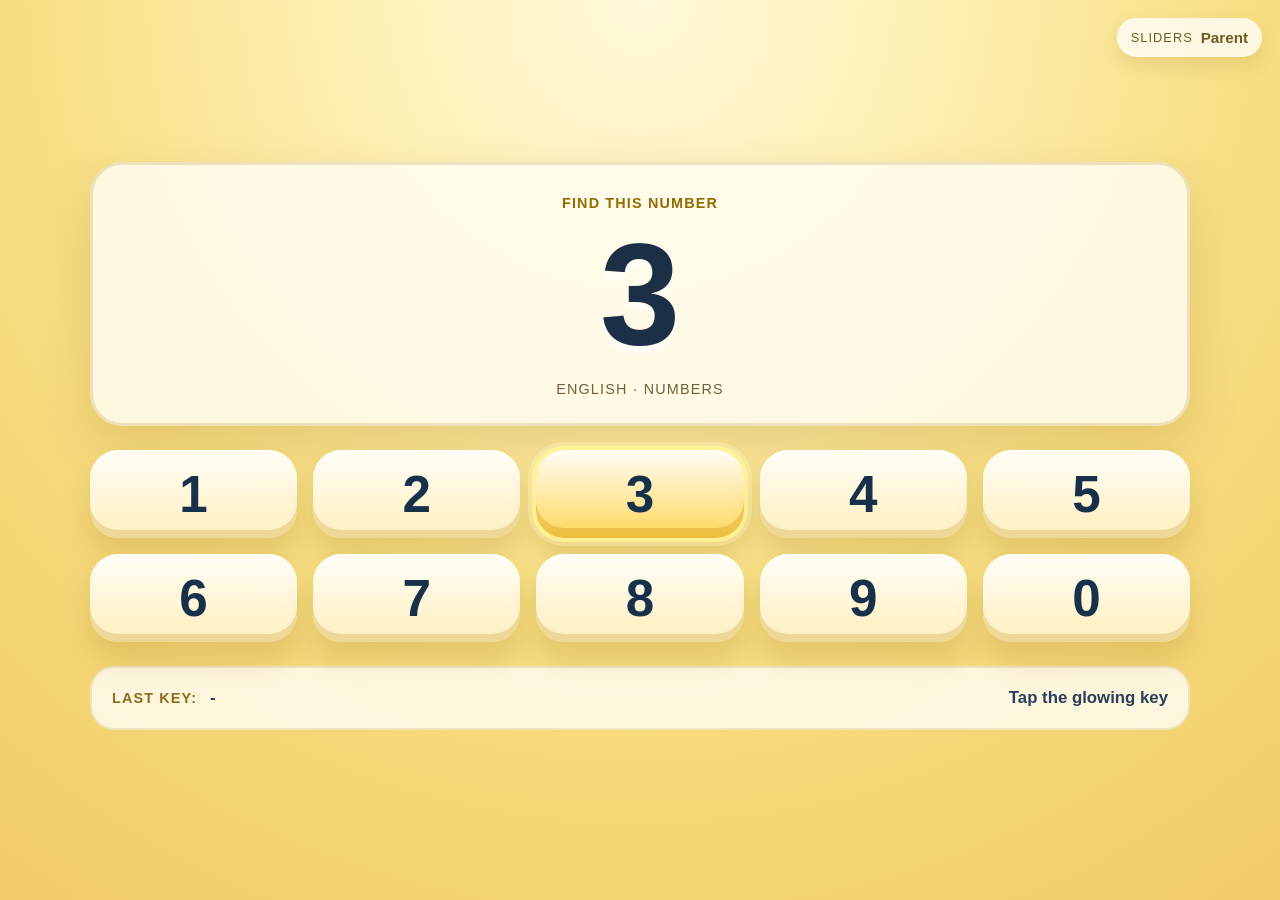
Test: App › keeps the current lesson state when the parent drawer opens and closes
The width and height of the screenshot is (1280, 900).
What coordinates should you click on to do the following:
click the button "1"
I would click on:
 (194, 494)
Its box is [90, 450, 297, 538].
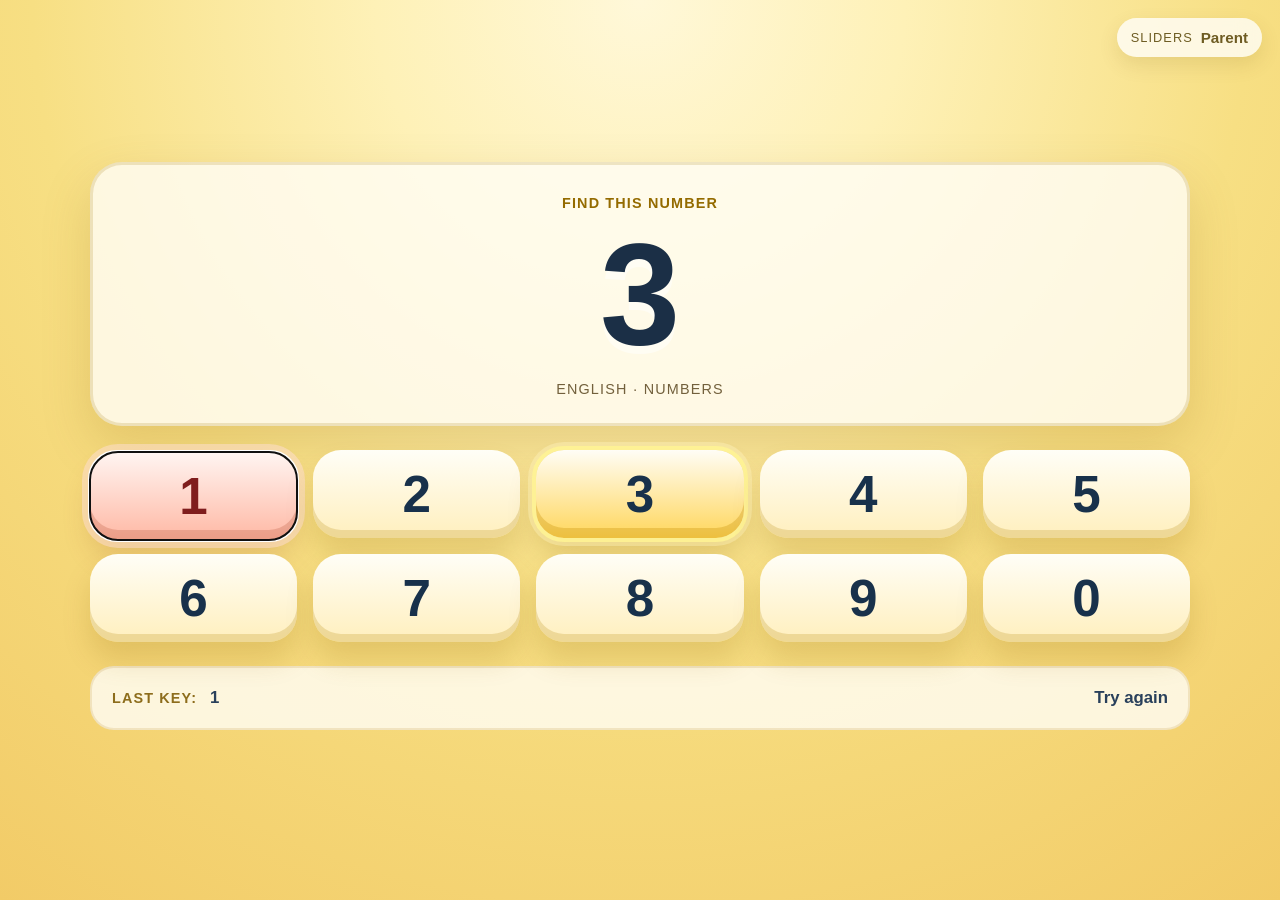
What coordinates should you click on to do the following:
click the button with aria-label "open parent settings"
I would click on:
 (1189, 38)
Its box is [1117, 18, 1262, 57].
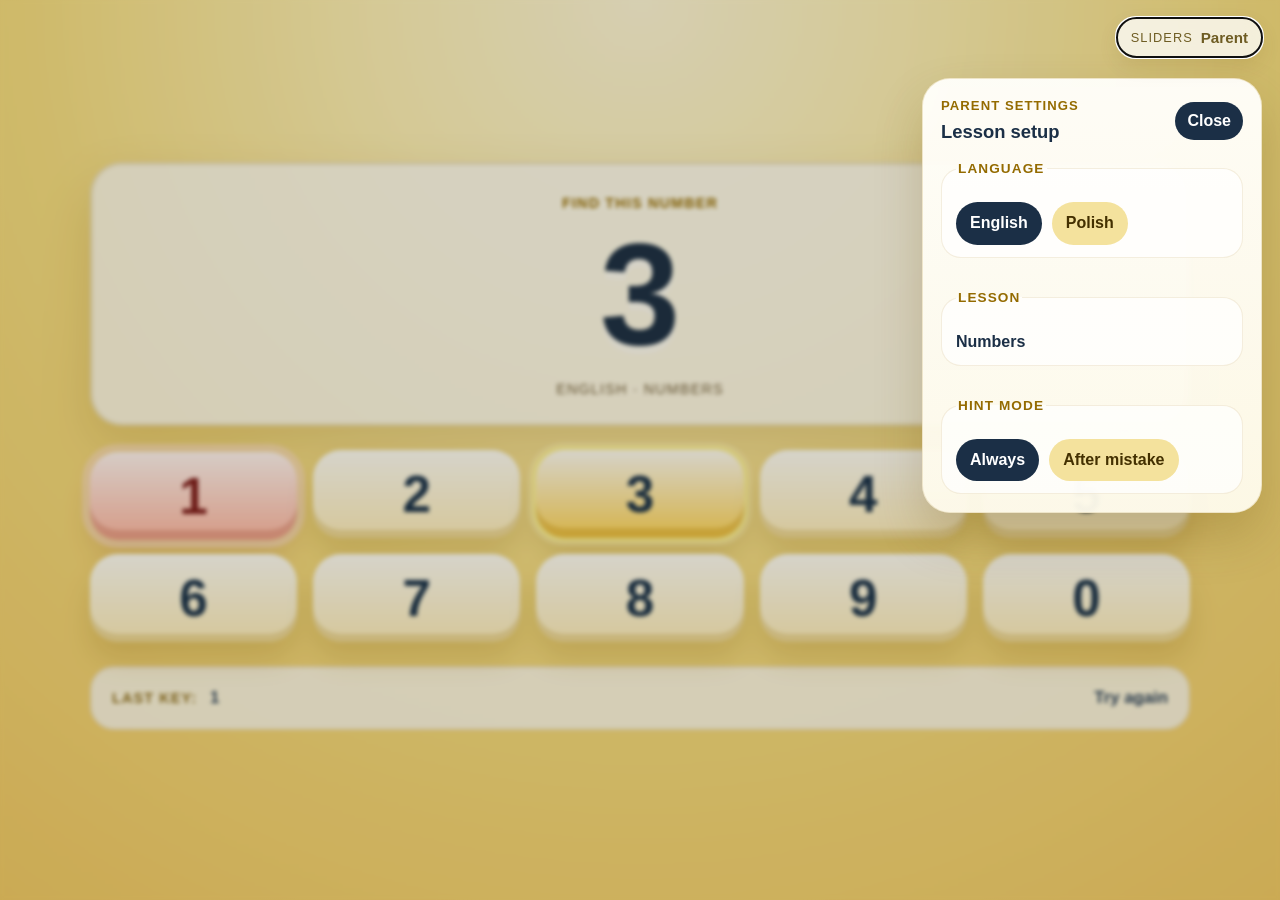
Result: the text "Try again" is shown at [1094, 686, 1168, 710]
Result: the dialog "Parent settings" is shown at [922, 78, 1262, 513]
What coordinates should you click on to do the following:
click the button with aria-label "close parent settings"
I would click on:
 (1209, 121)
Its box is [1175, 102, 1243, 140].
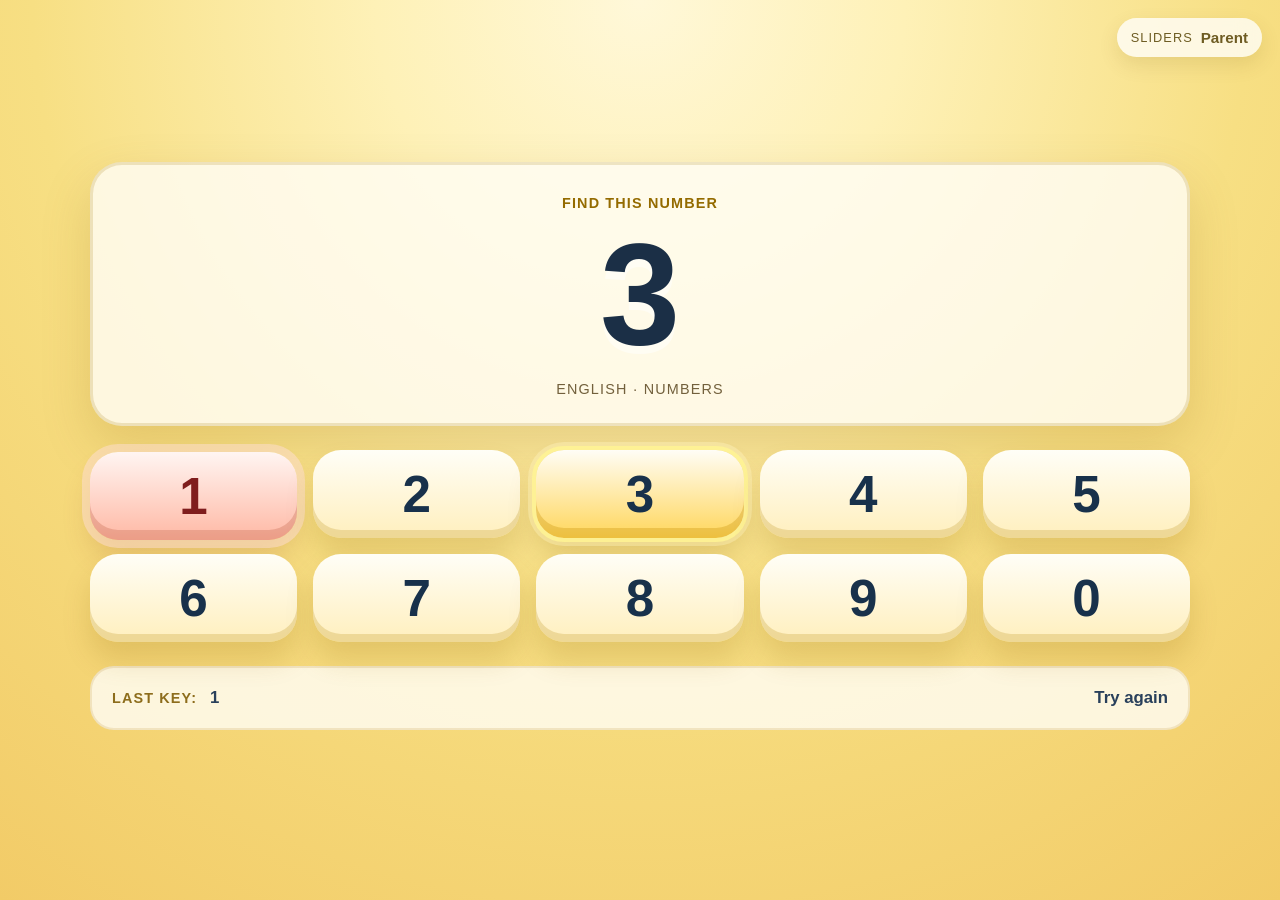
Result: the text "Try again" is shown at [1094, 686, 1168, 710]
Result: the text "Parent settings" is gone
